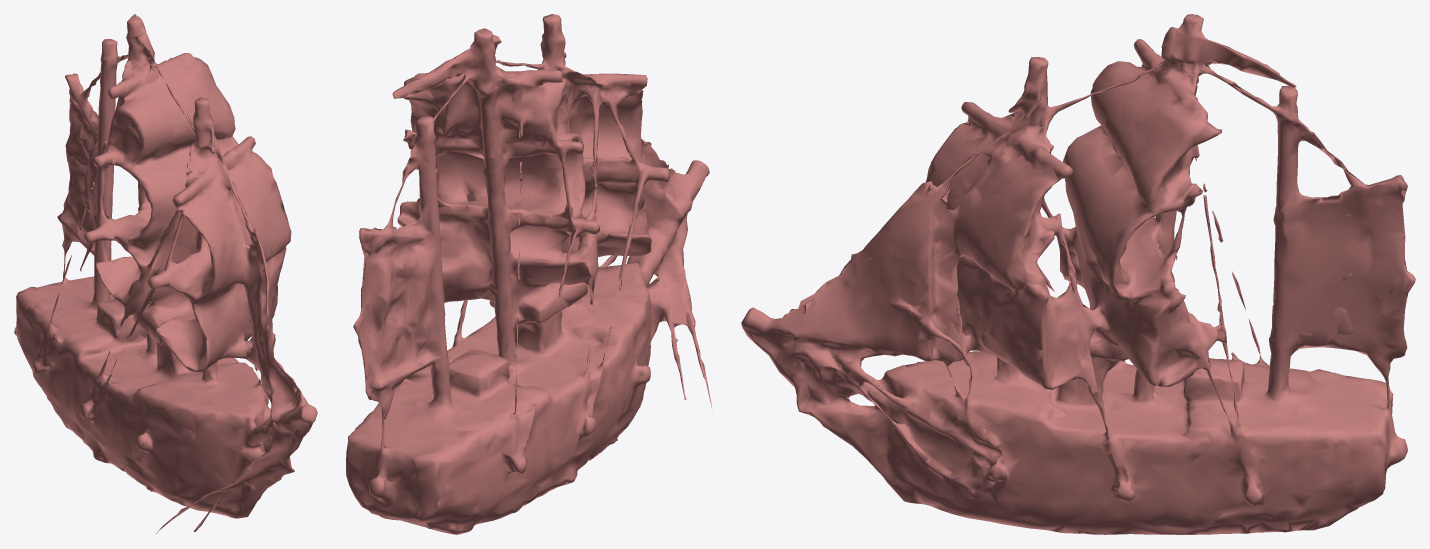
The model's file is mini_pirate_ship_light_v2.glb.
3 renders of one model, left to right at view 1: azimuth 30°, elevation 25°; view 2: azimuth 150°, elevation 25°; view 3: azimuth 270°, elevation 25°, orthographic. The views are drawn at different scales.
Parts seen in each view (by area): view 1: Object_2; view 2: Object_2; view 3: Object_2.
Boxes of the visible parts, x1,y1,x2,y2 form: Object_2: (14, 14, 317, 533); Object_2: (346, 14, 712, 534); Object_2: (741, 14, 1415, 534).
Bounding box in the file's own units: 0.0393 × 0.0846 × 0.1049.
